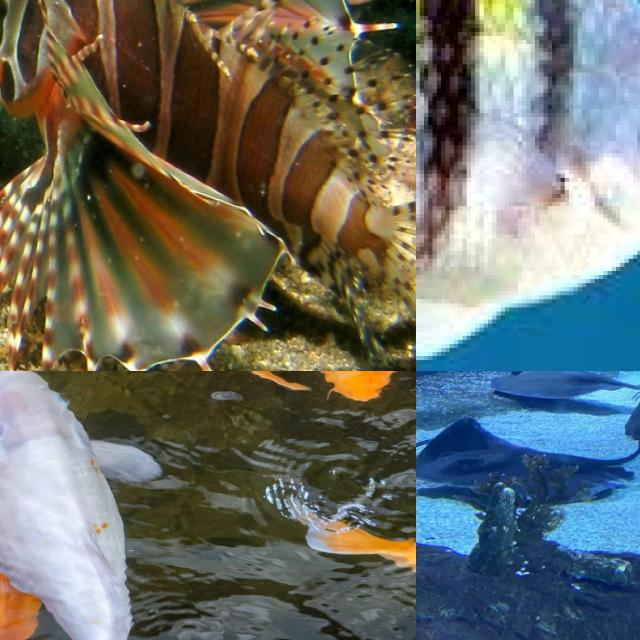fish: (0, 0, 416, 371), (416, 0, 640, 287), (0, 371, 188, 517)
